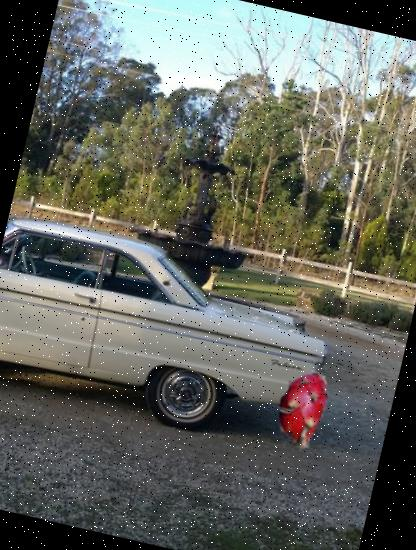Pitahaya: (256, 360, 352, 457)
